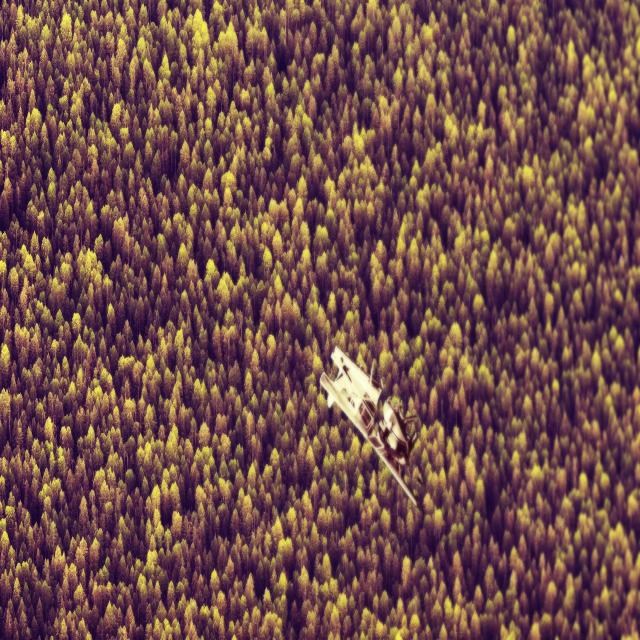airplane: (318, 344, 421, 508)
